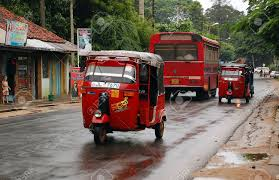tuk tuk: (82, 49, 167, 145), (218, 64, 252, 105)
